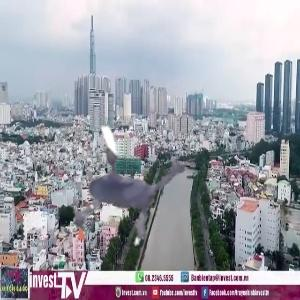drone: (24, 67, 221, 264)
